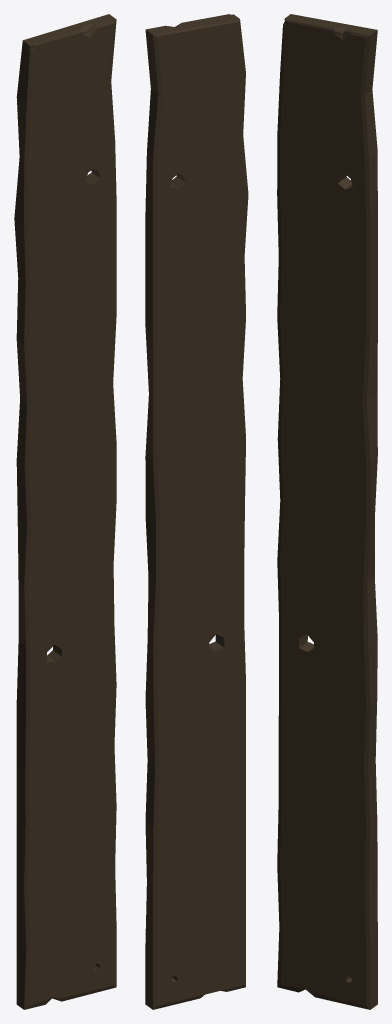
File: Plank.fbx
3 views of the same model, side by side, from view 1: azimuth 30°, elevation 25°; view 2: azimuth 210°, elevation 25°; view 3: azimuth 330°, elevation 25° (orthographic).
Parts seen in each view (by area): view 1: Plank; view 2: Plank; view 3: Plank.
Part boxes in pixels (x1,y1,x2,y2): Plank: (14,14,116,1009); Plank: (145,14,248,1009); Plank: (277,14,377,1009).
Size of the model in its own units: 205 by 2002 by 33.28.
